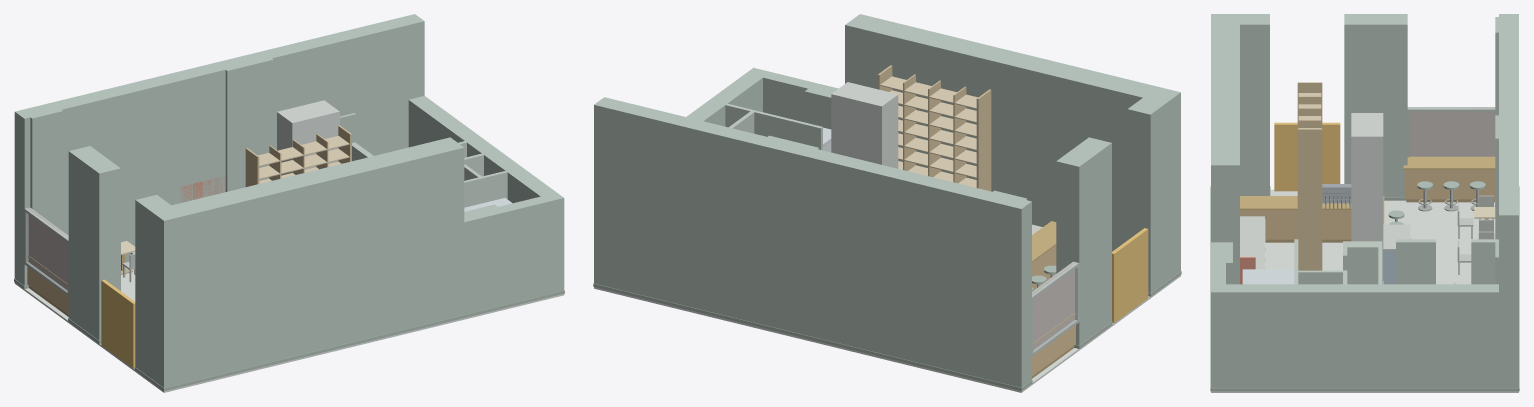
The model's file is BAR05_v18.glb.
The picture shows the model from 3 angles, left to right: view 1: azimuth 30°, elevation 25°; view 2: azimuth 150°, elevation 25°; view 3: azimuth 270°, elevation 25°; orthographic projection. The views are drawn at different scales.
Parts seen in each view (by area): view 1: Стена нижняя, Стена верхняя, Стена левая глухая 1, Стена правая, Пилон верх 2, Стена нижняя уступ 2, Стена нижняя уступ 1, Пилон верх 1, Стена левая глухая 2, Колонна · 1610×910, Входное полотно 1880, Окно · стекло (+8 smaller); view 2: Стена верхняя, Стена нижняя, Стена левая глухая 1, Стена левая глухая 2, Колонна · 1610×910, Входное полотно 1880, Окно · стекло, Стена правая, Окно · створка, Перегородка нижняя, Стена нижняя уступ 2, Плинтус (+16 smaller); view 3: Стена правая, Стена левая глухая 1, Стена верхняя, Стена нижняя, Пол, Стена левая глухая 2, Колонна · 1610×910, Окно · стекло, Окно · створка, Остров · боковина 2, Входное полотно 1880, Стойка у окна · 800×3130 (+22 smaller).
Part boxes in pixels (x1,y1,x2,y2): Стена нижняя: [150, 137, 464, 387]; Стена верхняя: [14, 14, 424, 285]; Стена левая глухая 1: [68, 146, 120, 340]; Стена правая: [408, 96, 564, 294]; Пилон верх 2: [217, 51, 273, 191]; Стена нижняя уступ 2: [499, 196, 547, 304]; Стена нижняя уступ 1: [464, 204, 505, 314]; Пилон верх 1: [26, 107, 62, 230]; Стена левая глухая 2: [135, 195, 170, 377]; Колонна · 1610×910: [277, 100, 339, 175]; Входное полотно 1880: [101, 279, 135, 368]; Окно · стекло: [25, 209, 68, 292]; Стена верхняя: [594, 97, 1031, 387]; Стена нижняя: [845, 14, 1180, 281]; Стена левая глухая 1: [1056, 137, 1111, 345]; Стена левая глухая 2: [1127, 98, 1165, 293]; Колонна · 1610×910: [831, 82, 898, 168]; Входное полотно 1880: [1112, 228, 1148, 322]; Окно · стекло: [1032, 262, 1078, 352]; Стена правая: [594, 67, 769, 284]; Окно · створка: [1032, 262, 1074, 349]; Перегородка нижняя: [725, 103, 822, 150]; Стена нижняя уступ 2: [763, 72, 815, 122]; Плинтус: [593, 283, 1032, 391]; Стена правая: [1211, 284, 1518, 387]; Стена левая глухая 1: [1344, 14, 1407, 197]; Стена верхняя: [1499, 14, 1518, 387]; Стена нижняя: [1211, 14, 1239, 284]; Пол: [1211, 189, 1518, 392]; Стена левая глухая 2: [1240, 14, 1269, 195]; Колонна · 1610×910: [1351, 113, 1383, 283]; Окно · стекло: [1408, 107, 1494, 156]; Окно · створка: [1410, 108, 1495, 156]; Остров · боковина 2: [1297, 128, 1322, 270]; Входное полотно 1880: [1274, 122, 1340, 191]; Стойка у окна · 800×3130: [1404, 169, 1495, 199].
Bounding box in the file's own units: 13.61 × 5.58 × 8.81.
